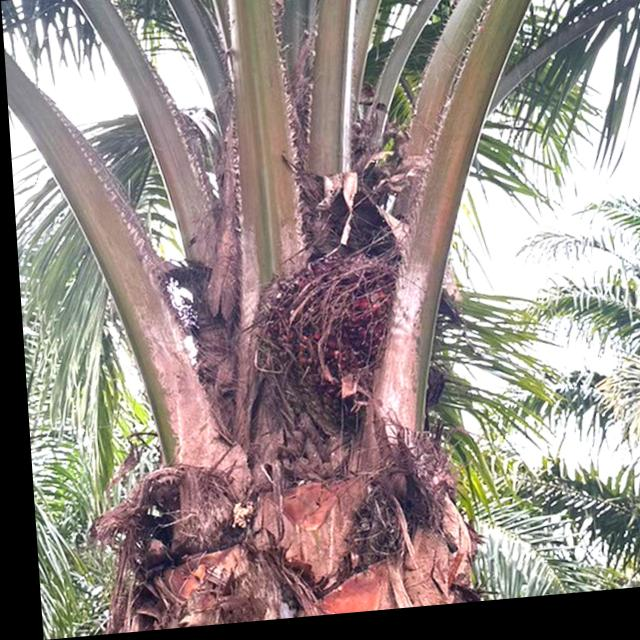ripe: (234, 237, 407, 431)
